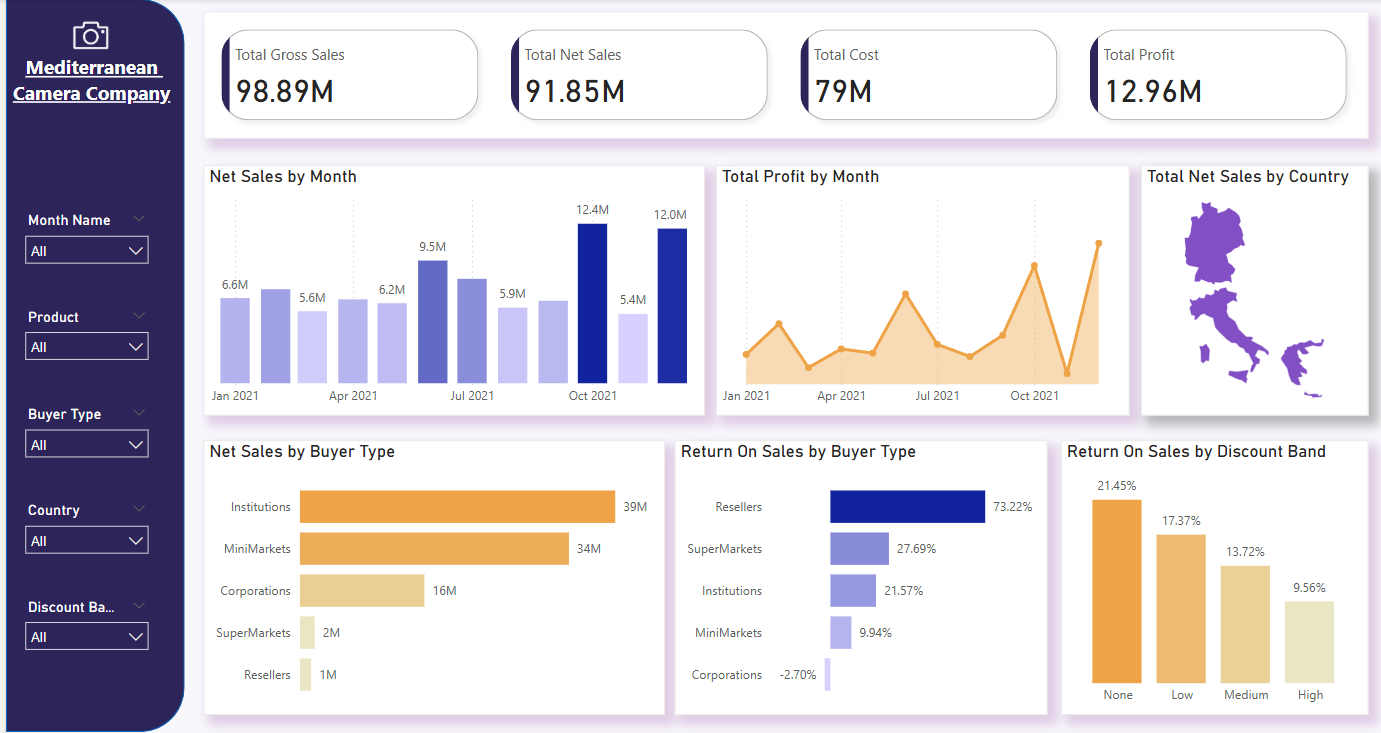

This screenshot's page, from the dashboard's own definition file:
{"tool":"powerbi","page":{"name":"Overview","canvas":[1350,720],"ordinal":0},"visuals":[{"type":"shape","box":[0,0,175.4,719.9],"z":0},{"type":"cardVisual","fields":{"Data":["Measure_.Total Gross Sales","Measure_.Total Net Sales","Measure_.Total Cost","Measure_.Total Profit"]},"box":[193.8,12.3,1143,125.1],"z":1000},{"type":"columnChart","title":"Net Sales by Month","fields":{"Y":["Measure_.Total Net Sales"],"Category":["Mediterranean Cameras Company.Date.Variation.Date Hierarchy.Month"]},"box":[193.8,163.1,491.8,245.3],"z":2000},{"type":"areaChart","title":"Total Profit by Month","fields":{"Category":["Mediterranean Cameras Company.Date.Variation.Date Hierarchy.Month"],"Y":["Measure_.Total Profit"]},"box":[696.6,163.1,405.9,245.3],"z":3000},{"type":"barChart","title":"Net Sales by Buyer Type","fields":{"Y":["Measure_.Total Net Sales"],"Category":["Mediterranean Cameras Company.Buyer Type"]},"box":[193.8,432.9,452.5,269.8],"z":3002},{"type":"barChart","title":"Return On Sales by Buyer Type","fields":{"Y":["Measure_.Return On Sales"],"Category":["Mediterranean Cameras Company.Buyer Type"]},"box":[656.1,432.9,365.5,269.8],"z":3003},{"type":"columnChart","title":"Return On Sales by Discount Band","fields":{"Category":["Mediterranean Cameras Company.Discount Band"],"Y":["Measure_.Return On Sales"]},"box":[1035.1,432.9,301.7,269.8],"z":3004},{"type":"slicer","fields":{"Values":["Calendar.Month Name"]},"box":[8.6,203.6,141,82.2],"z":3005},{"type":"slicer","fields":{"Values":["Mediterranean Cameras Company.Buyer Type"]},"box":[8.6,393.1,141,82.2],"z":3006},{"type":"slicer","fields":{"Values":["Mediterranean Cameras Company.Discount Band"]},"box":[8.6,582.5,141,82.2],"z":3007},{"type":"slicer","fields":{"Values":["Mediterranean Cameras Company.Country"]},"box":[8.6,487.8,141,82.2],"z":3008},{"type":"slicer","fields":{"Values":["Mediterranean Cameras Company.Product"]},"box":[8.6,298.3,141,82.2],"z":3009},{"type":"image","box":[59.2,12.3,49.1,49.1],"z":3010},{"type":"textbox","box":[0.9,49.1,165.6,92],"z":3011},{"type":"shapeMap","fields":{"Value":["Measure_.Total Net Sales"],"Category":["Mediterranean Cameras Company.Country"]},"box":[1113.6,163.1,223.2,245.3],"z":3012}]}

Visuals, with their boxes in screenshot pixels (x1, y1, x2, y2), scaled from the page's 1350x720 canvas onto the 1381x733 screenshot:
shape: box(0, 0, 179, 732)
cardVisual - Measure_.Total Gross Sales x Measure_.Total Net Sales: box(198, 13, 1367, 140)
"Net Sales by Month" columnChart: box(198, 166, 701, 416)
"Total Profit by Month" areaChart: box(713, 166, 1128, 416)
"Net Sales by Buyer Type" barChart: box(198, 441, 661, 715)
"Return On Sales by Buyer Type" barChart: box(671, 441, 1045, 715)
"Return On Sales by Discount Band" columnChart: box(1059, 441, 1367, 715)
slicer - Calendar.Month Name: box(9, 207, 153, 291)
slicer - Mediterranean Cameras Company.Buyer Type: box(9, 400, 153, 484)
slicer - Mediterranean Cameras Company.Discount Band: box(9, 593, 153, 677)
slicer - Mediterranean Cameras Company.Country: box(9, 497, 153, 580)
slicer - Mediterranean Cameras Company.Product: box(9, 304, 153, 387)
image: box(61, 13, 111, 63)
textbox: box(1, 50, 170, 144)
shapeMap - Measure_.Total Net Sales x Mediterranean Cameras Company.Country: box(1139, 166, 1367, 416)
